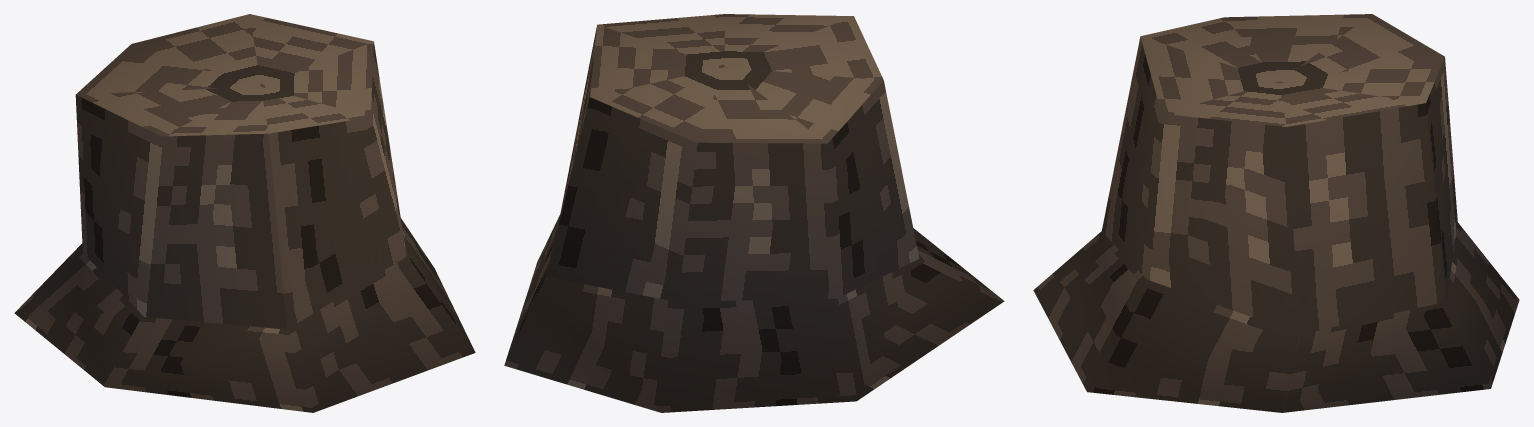
Rendered from mnat.stump.glb.
3 renders of one model, left to right at view 1: azimuth 30°, elevation 25°; view 2: azimuth 150°, elevation 25°; view 3: azimuth 270°, elevation 25°, orthographic. The views are drawn at different scales.
Visible parts, largest first — view 1: kit_wood; view 2: kit_wood; view 3: kit_wood.
Part boxes in pixels (box(x1,y1,x2,y2)): kit_wood: box(14, 14, 475, 412); kit_wood: box(504, 14, 1004, 412); kit_wood: box(1033, 14, 1519, 412).
Size of the model in its own units: 1.05 by 0.651 by 1.08.
2 materials, 2 textured.
